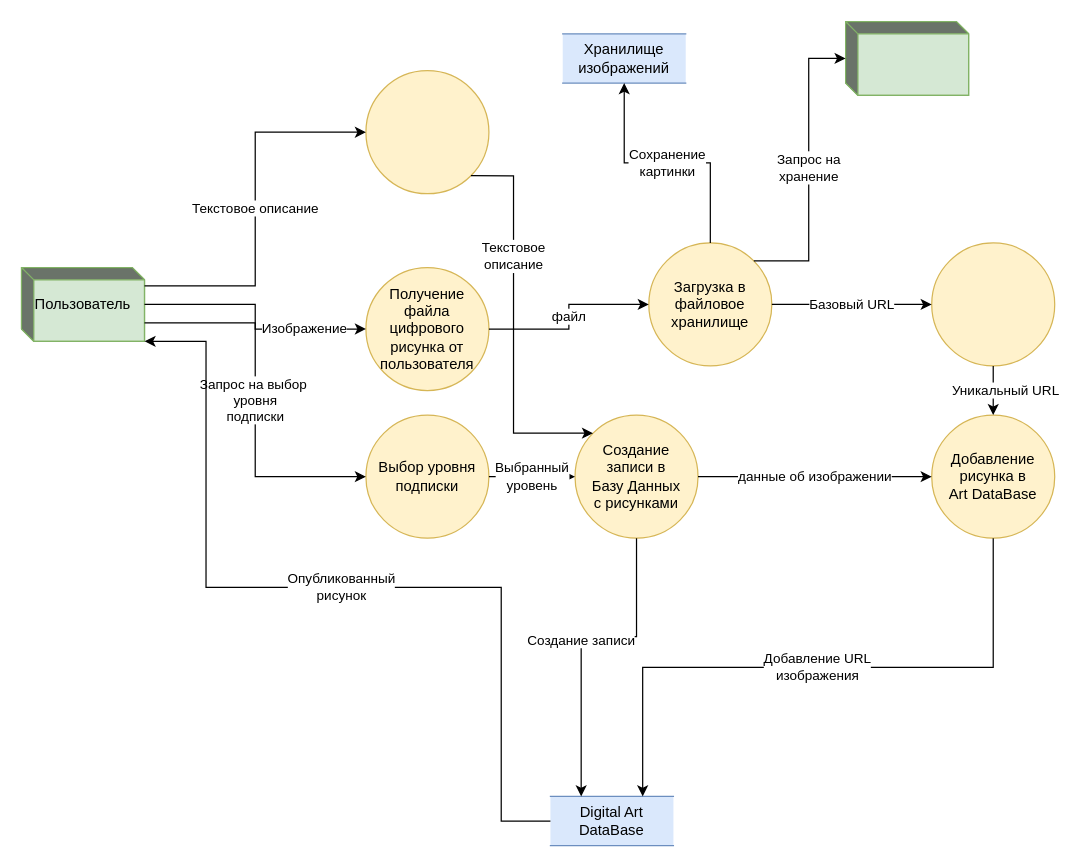
The diagram is 1080 pixels wide and 867 high, and some of its shapes have lost their labels. Here are the shapes that lost their labels. From the top down, the box of each, then its label:
(844, 20, 969, 95): Файловый сервер
(365, 69, 489, 194): Заполнение текстового описания
(930, 242, 1055, 366): Получение уникального URL
